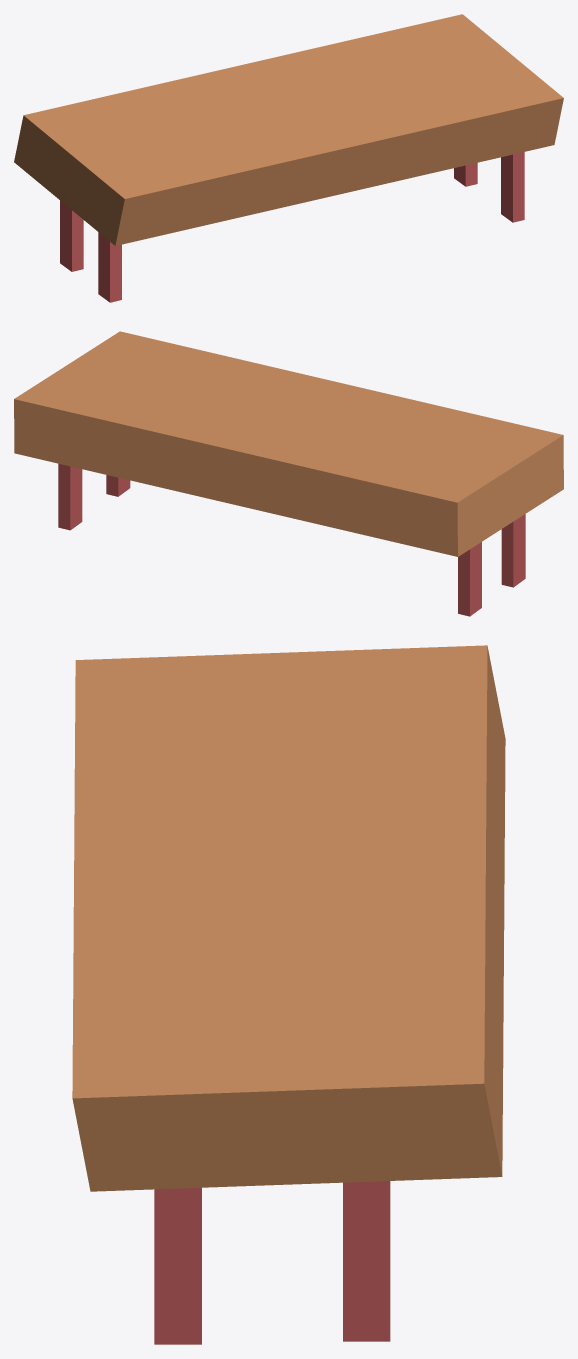
Rendered from bench.fbx.
The picture shows the model from 3 angles, top to bottom: view 1: azimuth 30°, elevation 25°; view 2: azimuth 150°, elevation 25°; view 3: azimuth 270°, elevation 25°; orthographic projection. The views are drawn at different scales.
Parts seen in each view (by area): view 1: Cube.003; view 2: Cube.003; view 3: Cube.003.
Boxes of the visible parts, x1,y1,x2,y2 form: Cube.003: [14, 14, 563, 302]; Cube.003: [14, 331, 563, 616]; Cube.003: [72, 645, 505, 1344].
Size of the model in its own units: 226 by 70.78 by 95.36.
